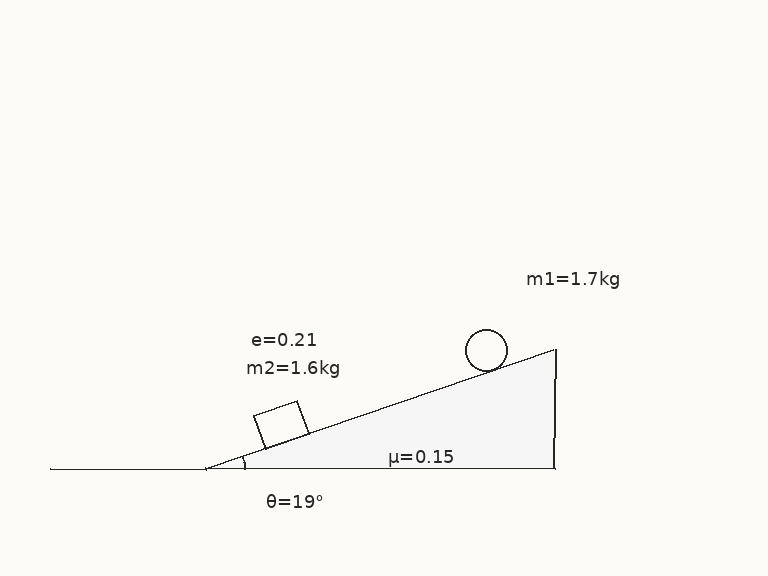ball: (463, 327, 509, 373)
block: (251, 399, 310, 451)
ramp: (203, 347, 556, 471)
